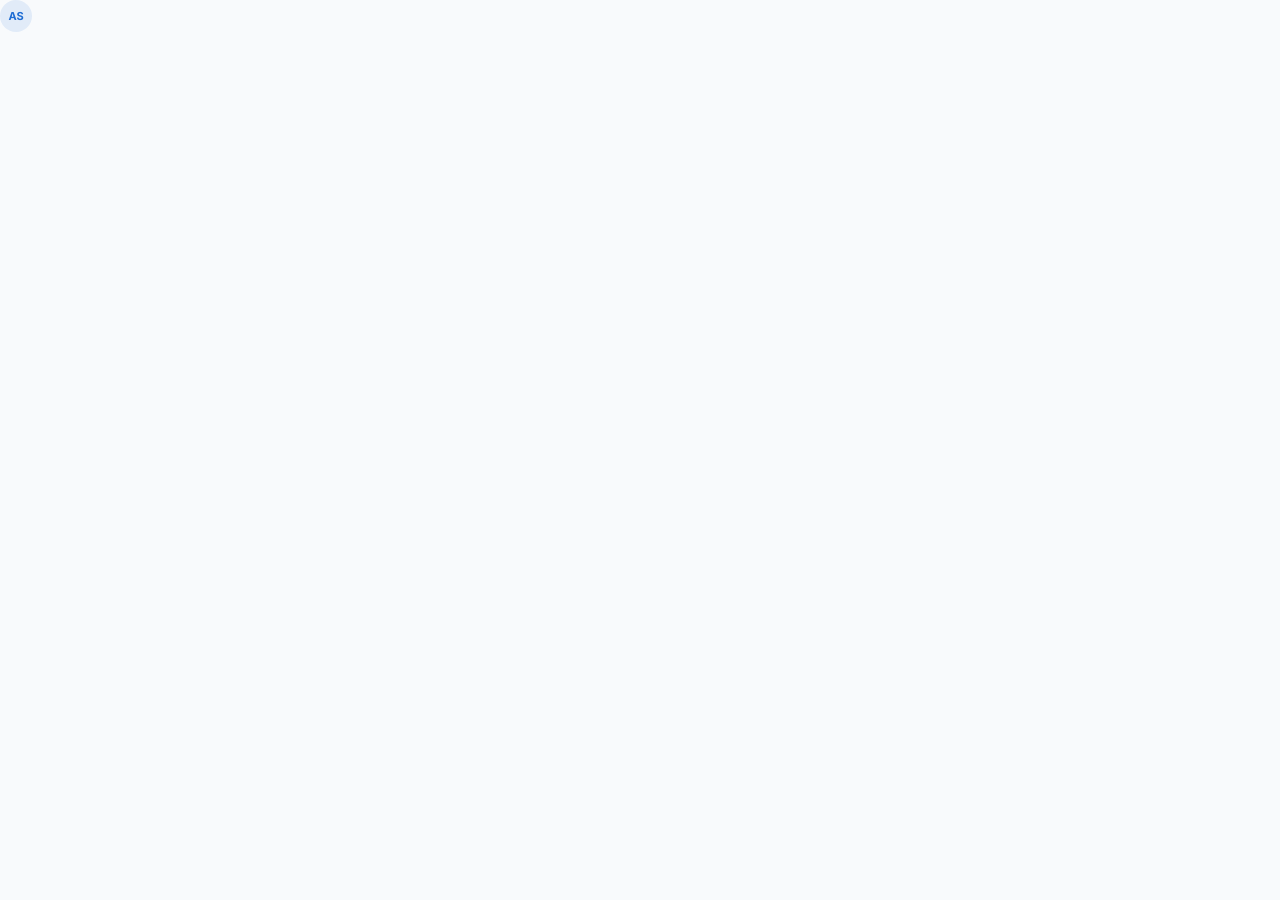
Scenario: Menu do utilizador › mostra o perfil de acesso: função, concessões, acesso (VN/VU) e marca
The image size is (1280, 900).
Click the button with aria-label "Menu do utilizador": (16, 16) x1=0 y1=0 x2=32 y2=32
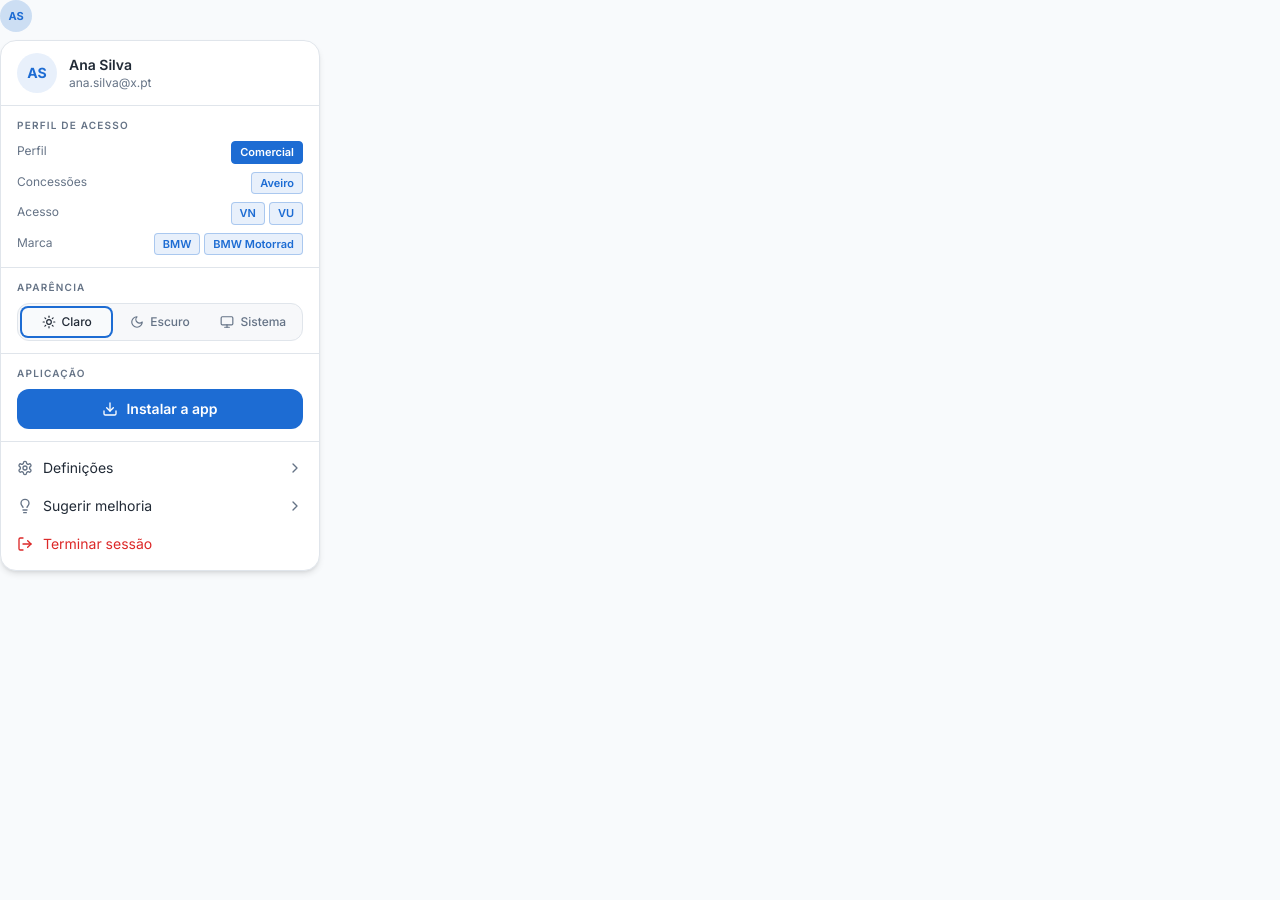
expect the text "Perfil de acesso" is shown: met, box x1=17 y1=119 x2=129 y2=131
expect the text "Comercial" is shown: met, box x1=231 y1=141 x2=303 y2=164
expect the text "Acesso" is shown: met, box x1=17 y1=202 x2=59 y2=220
